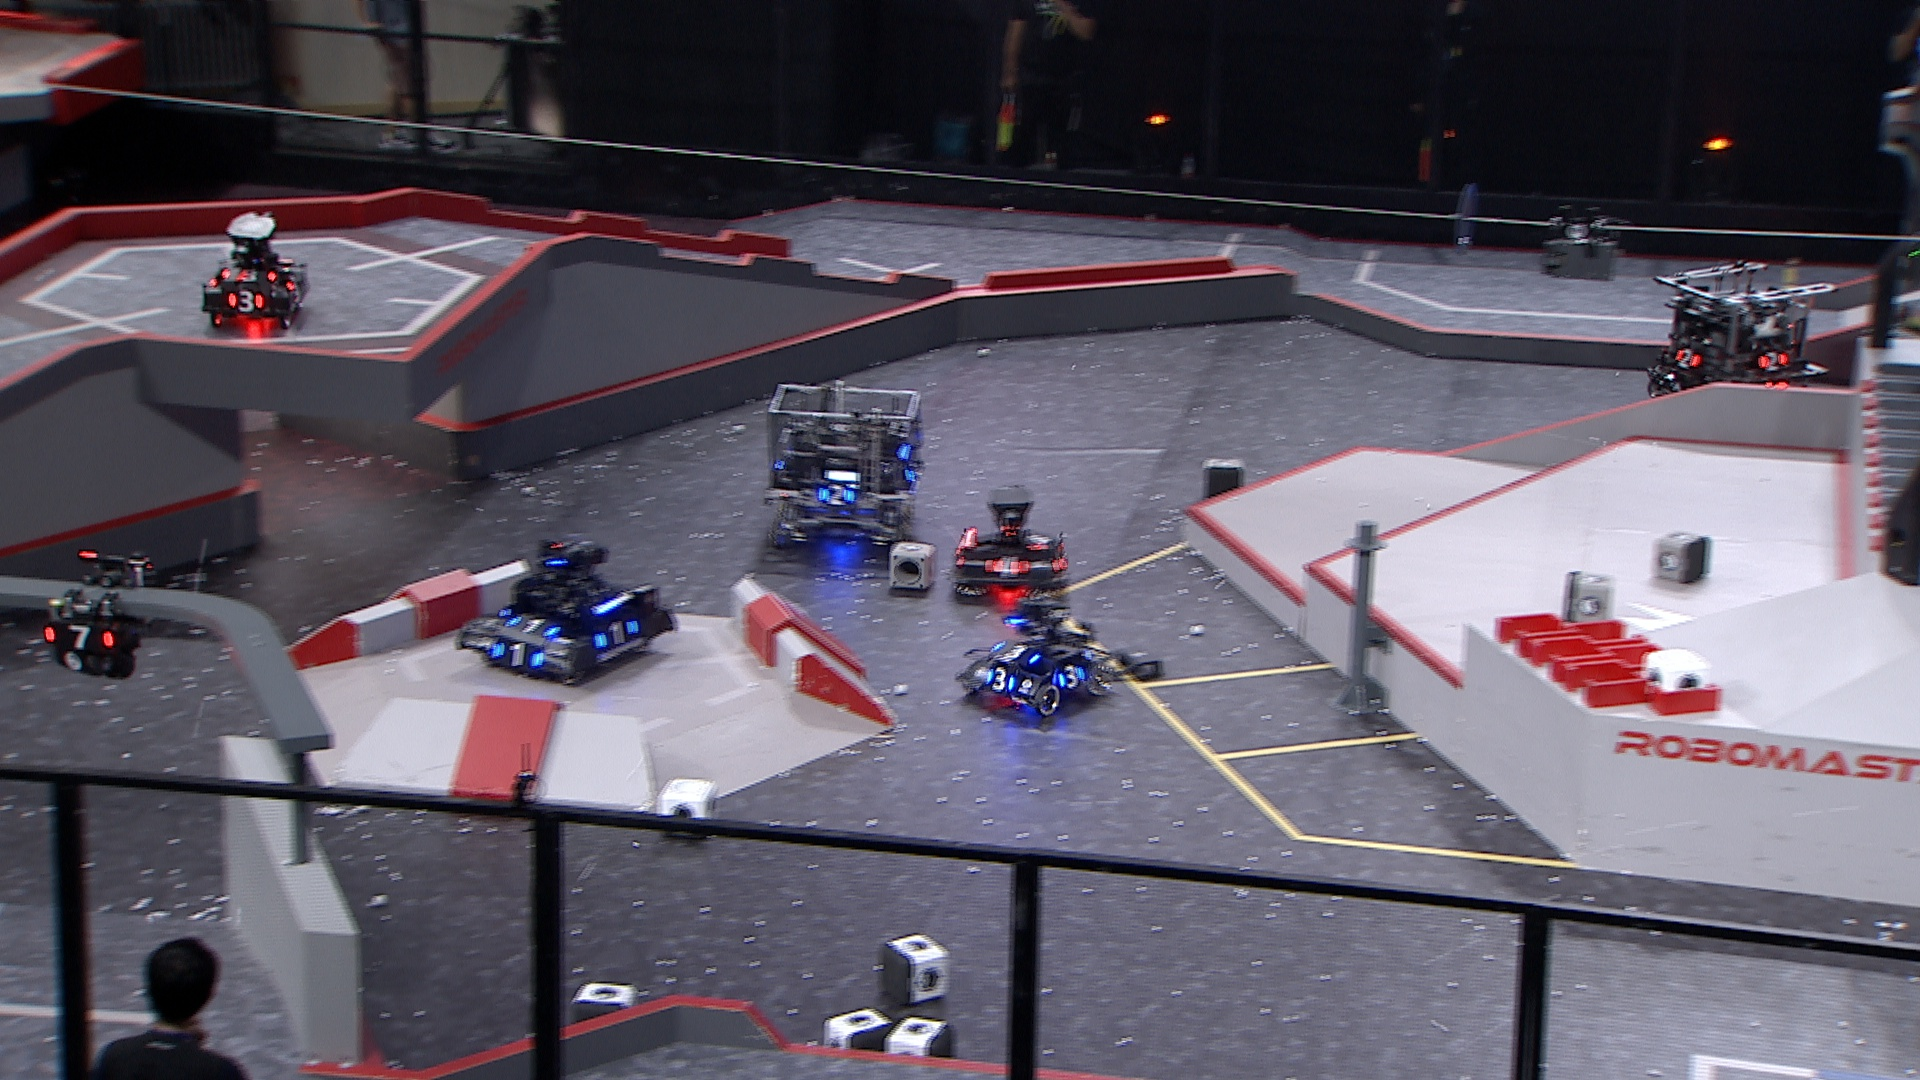armor: (40, 624, 115, 651), (487, 641, 546, 670), (593, 617, 644, 650), (505, 615, 564, 638), (984, 553, 1031, 582), (992, 640, 1040, 665), (223, 290, 268, 313), (818, 483, 858, 506), (218, 266, 277, 282), (1055, 662, 1087, 690), (984, 666, 1015, 694), (1755, 349, 1789, 373), (1671, 347, 1702, 371), (1026, 527, 1054, 553), (286, 276, 305, 305)
car: (452, 529, 675, 688), (1647, 258, 1828, 419), (764, 380, 922, 551), (953, 597, 1116, 719), (949, 488, 1069, 603), (200, 207, 306, 328)
watcher: (34, 551, 152, 683)
